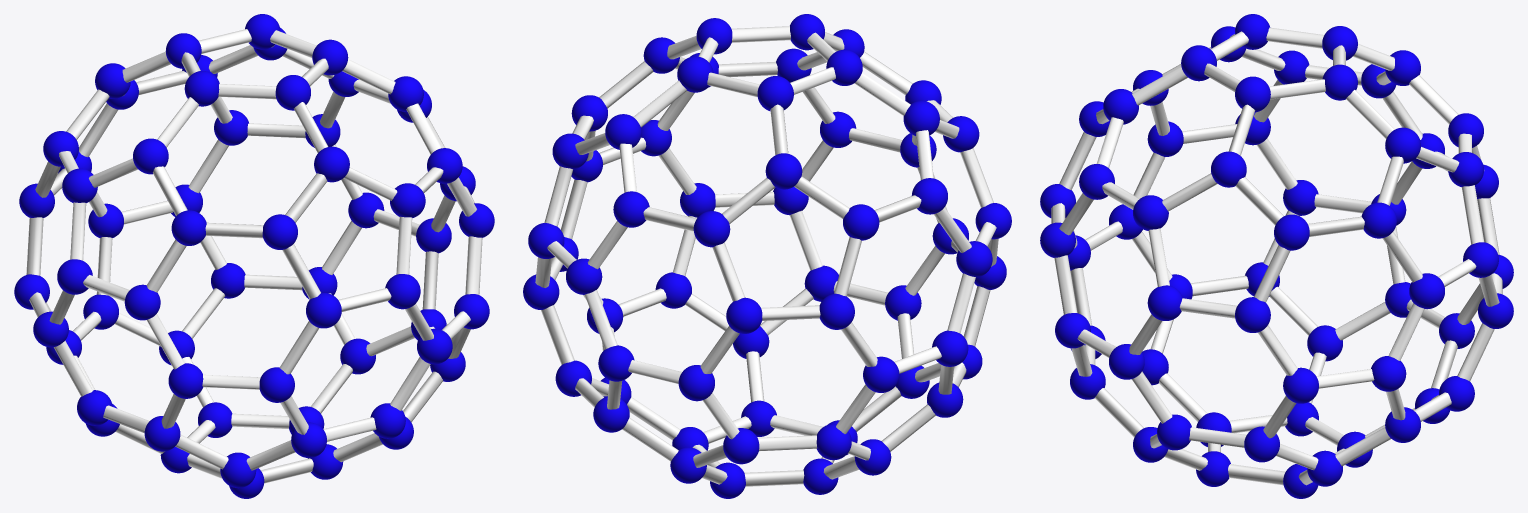
3 renders of one model, left to right at view 1: azimuth 30°, elevation 25°; view 2: azimuth 150°, elevation 25°; view 3: azimuth 270°, elevation 25°, orthographic.
Visible parts, largest first — view 1: GD_mesh.001, GD_mesh.001|Sphere|Dupli|19, GD_mesh.001|Sphere|Dupli|18, GD_mesh.001|Sphere|Dupli|38, GD_mesh.001|Sphere|Dupli|36, GD_mesh.001|Sphere|Dupli|39, GD_mesh.001|Sphere|Dupli|37, GD_mesh.001|Sphere|Dupli|1, GD_mesh.001|Sphere|Dupli|9, GD_mesh.001|Sphere|Dupli|, GD_mesh.001|Sphere|Dupli|8, GD_mesh.001|Sphere|Dupli|20 (+35 smaller); view 2: GD_mesh.001, GD_mesh.001|Sphere|Dupli|30, GD_mesh.001|Sphere|Dupli|15, GD_mesh.001|Sphere|Dupli|7, GD_mesh.001|Sphere|Dupli|32, GD_mesh.001|Sphere|Dupli|16, GD_mesh.001|Sphere|Dupli|14, GD_mesh.001|Sphere|Dupli|31, GD_mesh.001|Sphere|Dupli|29, GD_mesh.001|Sphere|Dupli|28, GD_mesh.001|Sphere|Dupli|4, GD_mesh.001|Sphere|Dupli|33 (+43 smaller); view 3: GD_mesh.001, GD_mesh.001|Sphere|Dupli|12, GD_mesh.001|Sphere|Dupli|24, GD_mesh.001|Sphere|Dupli|3, GD_mesh.001|Sphere|Dupli|13, GD_mesh.001|Sphere|Dupli|22, GD_mesh.001|Sphere|Dupli|11, GD_mesh.001|Sphere|Dupli|25, GD_mesh.001|Sphere|Dupli|27, GD_mesh.001|Sphere|Dupli|26, GD_mesh.001|Sphere|Dupli|4, GD_mesh.001|Sphere|Dupli|2 (+44 smaller).
Boxes of the visible parts, x1,y1,x2,y2 form: GD_mesh.001: (26, 29, 482, 483); GD_mesh.001|Sphere|Dupli|19: (262, 214, 297, 249); GD_mesh.001|Sphere|Dupli|18: (171, 210, 206, 245); GD_mesh.001|Sphere|Dupli|38: (306, 293, 341, 328); GD_mesh.001|Sphere|Dupli|36: (124, 284, 160, 320); GD_mesh.001|Sphere|Dupli|39: (259, 367, 294, 402); GD_mesh.001|Sphere|Dupli|37: (168, 363, 203, 398); GD_mesh.001|Sphere|Dupli|1: (314, 146, 349, 182); GD_mesh.001|Sphere|Dupli|9: (133, 138, 168, 174); GD_mesh.001|Sphere|Dupli|: (275, 75, 310, 110); GD_mesh.001|Sphere|Dupli|8: (184, 71, 219, 106); GD_mesh.001|Sphere|Dupli|20: (385, 274, 420, 309); GD_mesh.001: (535, 26, 998, 486); GD_mesh.001|Sphere|Dupli|30: (726, 297, 762, 333); GD_mesh.001|Sphere|Dupli|15: (693, 211, 730, 247); GD_mesh.001|Sphere|Dupli|7: (765, 153, 802, 189); GD_mesh.001|Sphere|Dupli|32: (819, 293, 854, 329); GD_mesh.001|Sphere|Dupli|16: (843, 204, 879, 240); GD_mesh.001|Sphere|Dupli|14: (613, 191, 649, 227); GD_mesh.001|Sphere|Dupli|31: (678, 365, 714, 401); GD_mesh.001|Sphere|Dupli|29: (598, 345, 634, 381); GD_mesh.001|Sphere|Dupli|28: (566, 258, 602, 294); GD_mesh.001|Sphere|Dupli|4: (677, 56, 713, 92); GD_mesh.001|Sphere|Dupli|33: (863, 356, 899, 392); GD_mesh.001: (1051, 27, 1502, 485); GD_mesh.001|Sphere|Dupli|12: (1274, 214, 1309, 250); GD_mesh.001|Sphere|Dupli|24: (1235, 297, 1270, 332); GD_mesh.001|Sphere|Dupli|3: (1211, 151, 1246, 187); GD_mesh.001|Sphere|Dupli|13: (1361, 202, 1396, 238); GD_mesh.001|Sphere|Dupli|22: (1147, 285, 1182, 320); GD_mesh.001|Sphere|Dupli|11: (1133, 195, 1168, 230); GD_mesh.001|Sphere|Dupli|25: (1283, 367, 1318, 403); GD_mesh.001|Sphere|Dupli|27: (1371, 356, 1406, 391); GD_mesh.001|Sphere|Dupli|26: (1409, 273, 1444, 309); GD_mesh.001|Sphere|Dupli|4: (1322, 64, 1357, 100); GD_mesh.001|Sphere|Dupli|2: (1235, 76, 1270, 112).
Bounding box in the file's own units: 204 × 209 × 212.
